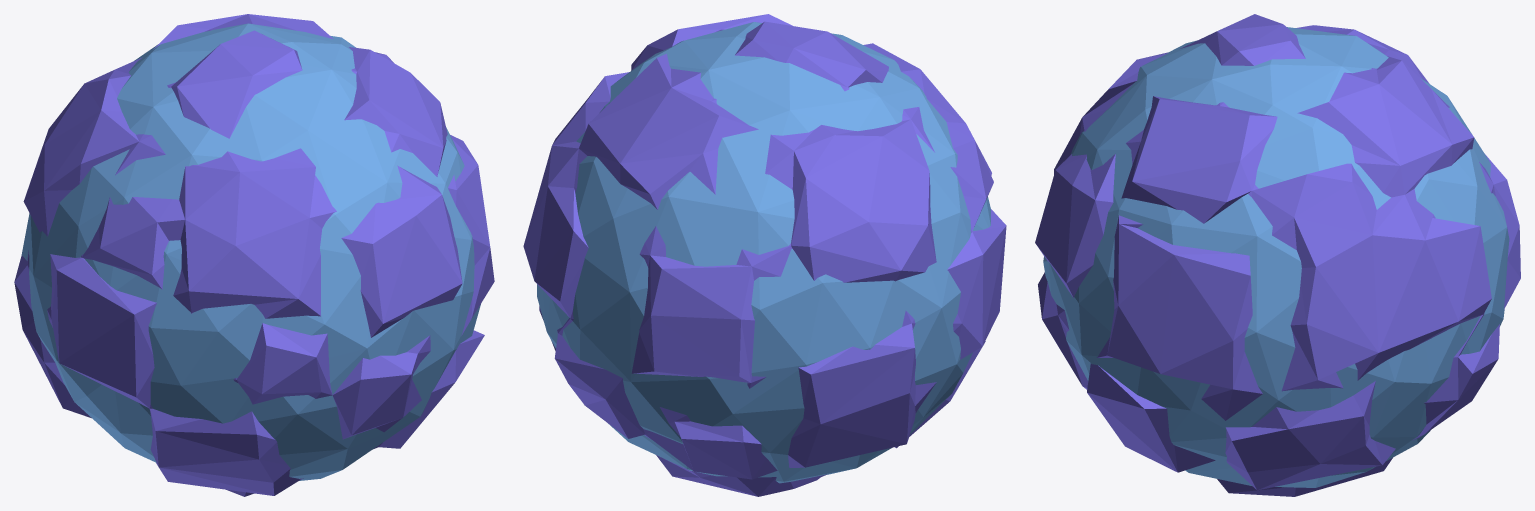
Rendered from icy_planet6.fbx.
3 views of the same model, side by side, from view 1: azimuth 30°, elevation 25°; view 2: azimuth 150°, elevation 25°; view 3: azimuth 270°, elevation 25° (orthographic).
Visible parts, largest first — view 1: icy_planet6; view 2: icy_planet6; view 3: icy_planet6.
Part boxes in pixels (<box>): icy_planet6: <box>14,14,494,496</box>; icy_planet6: <box>523,14,1006,496</box>; icy_planet6: <box>1035,14,1520,496</box>.
Size of the model in its own units: 211 by 213 by 213.
